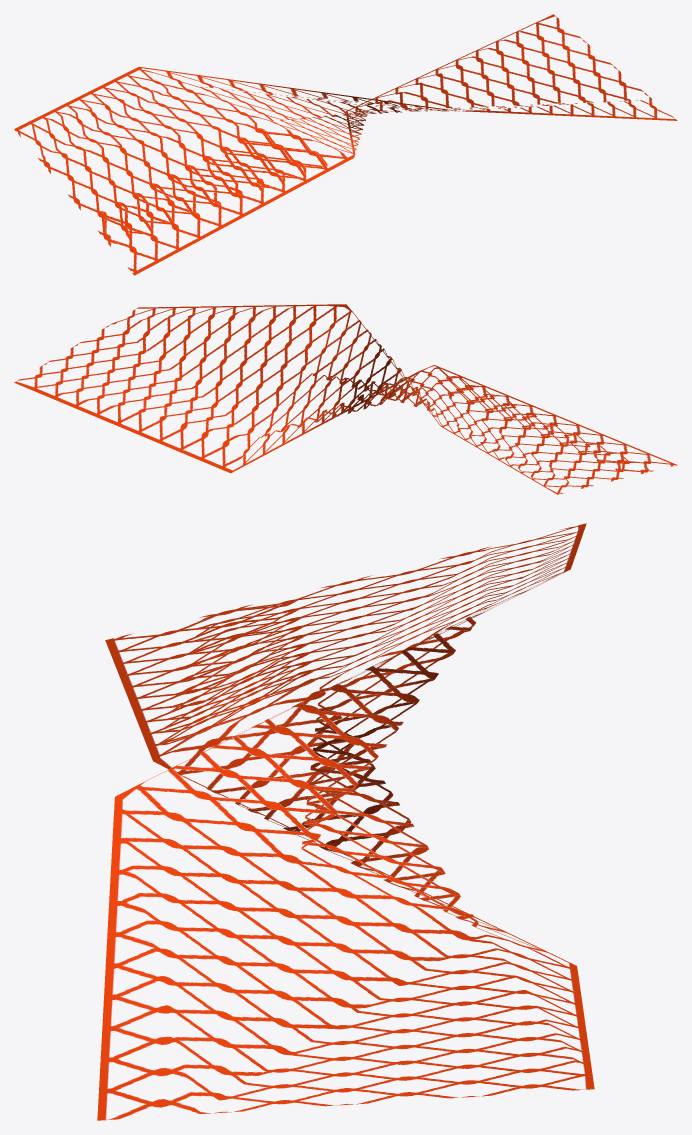
Rendered from orangeFence_loose_1.fbx.
3 views of the same model, one above another, from view 1: azimuth 30°, elevation 25°; view 2: azimuth 150°, elevation 25°; view 3: azimuth 270°, elevation 25° (orthographic). The views are drawn at different scales.
Visible parts, largest first — view 1: Plane01, Duplicate02; view 2: Plane01, Duplicate02; view 3: Plane01, Duplicate02.
Part boxes in pixels (bbox=[...]): Plane01: bbox=[14, 14, 677, 275]; Duplicate02: bbox=[15, 14, 673, 274]; Plane01: bbox=[14, 304, 676, 494]; Duplicate02: bbox=[14, 304, 677, 492]; Plane01: bbox=[97, 523, 594, 1120]; Duplicate02: bbox=[98, 524, 593, 1120].
Size of the model in its own units: 210 by 35.71 by 83.3.
